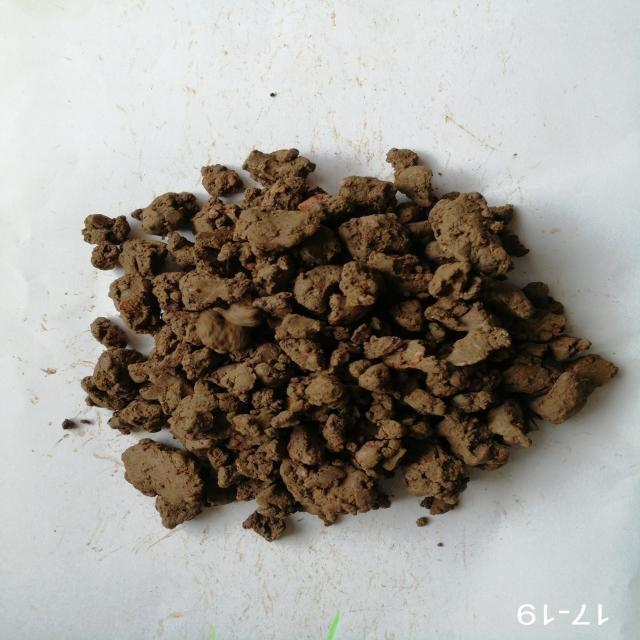soil: (170, 222, 466, 460)
